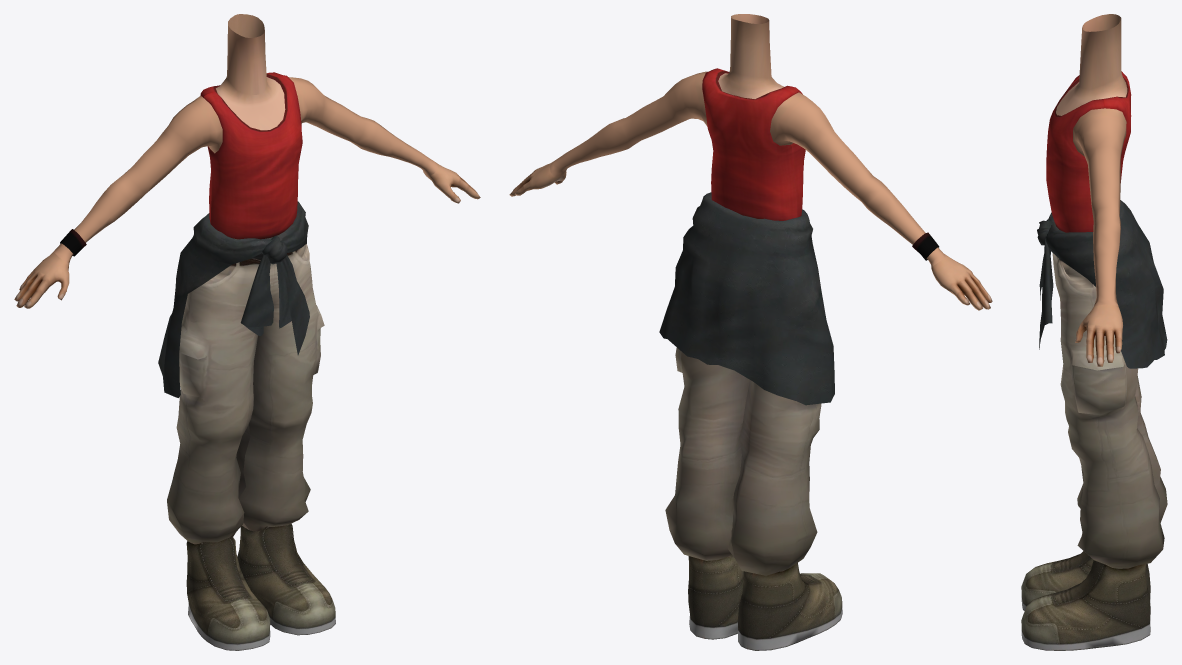
The model's file is bobblebody-transformed.glb.
3 views of the same model, side by side, from view 1: azimuth 30°, elevation 25°; view 2: azimuth 150°, elevation 25°; view 3: azimuth 270°, elevation 25° (orthographic). The views are drawn at different scales.
Visible parts, largest first — view 1: Mesh_1242out_Tex_0097_0.dds_0, Mesh_1241out_Mat.1_0, Mesh_1239out_SHOE R_0, neck; view 2: Mesh_1241out_Mat.1_0, Mesh_1242out_Tex_0097_0.dds_0, Mesh_1239out_SHOE R_0, neck; view 3: Mesh_1241out_Mat.1_0, Mesh_1242out_Tex_0097_0.dds_0, Mesh_1239out_SHOE R_0, neck.
Part boxes in pixels (x1,y1,x2,y2): Mesh_1242out_Tex_0097_0.dds_0: [167, 232, 324, 544]; Mesh_1241out_Mat.1_0: [53, 72, 437, 397]; Mesh_1239out_SHOE R_0: [14, 162, 480, 650]; neck: [216, 14, 285, 130]; Mesh_1241out_Mat.1_0: [549, 68, 947, 405]; Mesh_1242out_Tex_0097_0.dds_0: [665, 347, 821, 575]; Mesh_1239out_SHOE R_0: [509, 162, 992, 650]; neck: [718, 14, 784, 98]; Mesh_1241out_Mat.1_0: [1037, 71, 1167, 368]; Mesh_1242out_Tex_0097_0.dds_0: [1049, 222, 1167, 568]; Mesh_1239out_SHOE R_0: [1021, 304, 1150, 650]; neck: [1056, 14, 1127, 115].
Size of the model in its own units: 0.8801 by 1.08 by 0.2373.
4 materials, 4 textured.
